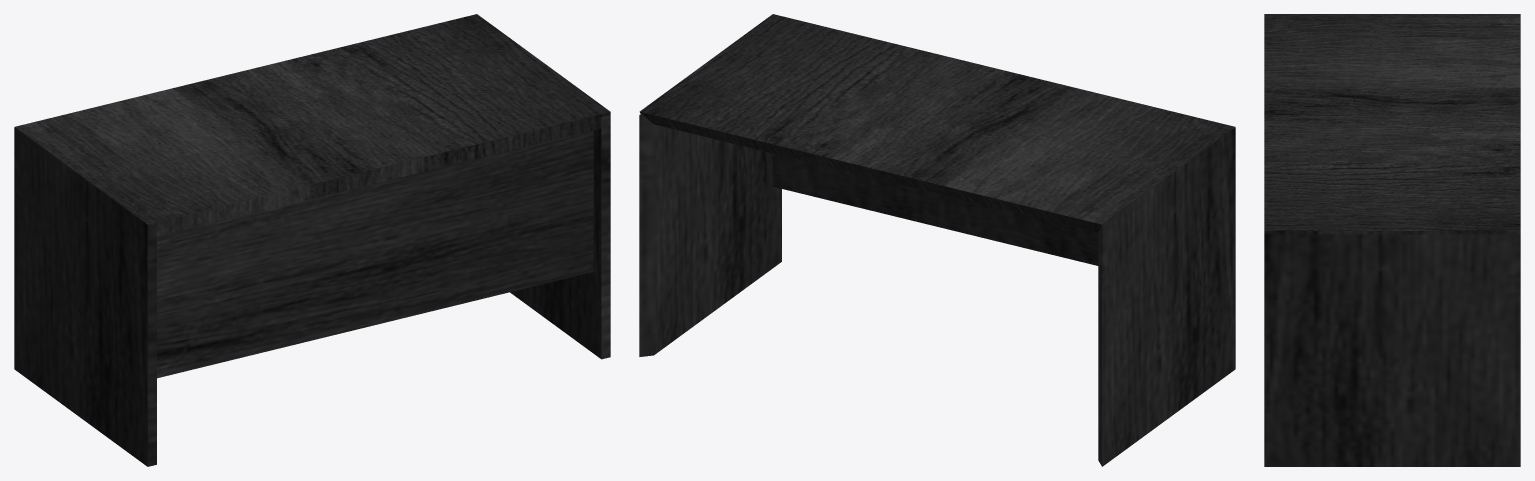
File: Desk.obj
3 views of the same model, side by side, from view 1: azimuth 30°, elevation 25°; view 2: azimuth 150°, elevation 25°; view 3: azimuth 270°, elevation 25° (orthographic). The views are drawn at different scales.
Parts seen in each view (by area): view 1: Cube_Cube.001, Cube.003_Cube.004, Cube.002_Cube.003, Cube.001_Cube.002; view 2: Cube_Cube.001, Cube.002_Cube.003, Cube.001_Cube.002, Cube.003_Cube.004; view 3: Cube.001_Cube.002, Cube_Cube.001.
Boxes of the visible parts, <box> form: Cube_Cube.001: <box>15,14,610,238</box>; Cube.003_Cube.004: <box>157,130,593,378</box>; Cube.002_Cube.003: <box>14,127,156,466</box>; Cube.001_Cube.002: <box>510,115,610,359</box>; Cube_Cube.001: <box>639,14,1234,232</box>; Cube.002_Cube.003: <box>1098,127,1235,466</box>; Cube.001_Cube.002: <box>639,114,781,356</box>; Cube.003_Cube.004: <box>772,153,1098,265</box>; Cube.001_Cube.002: <box>1264,234,1520,466</box>; Cube_Cube.001: <box>1264,14,1520,234</box>.
Bounding box in the file's own units: 1 × 0.5074 × 0.5.
1 material, 1 textured.
